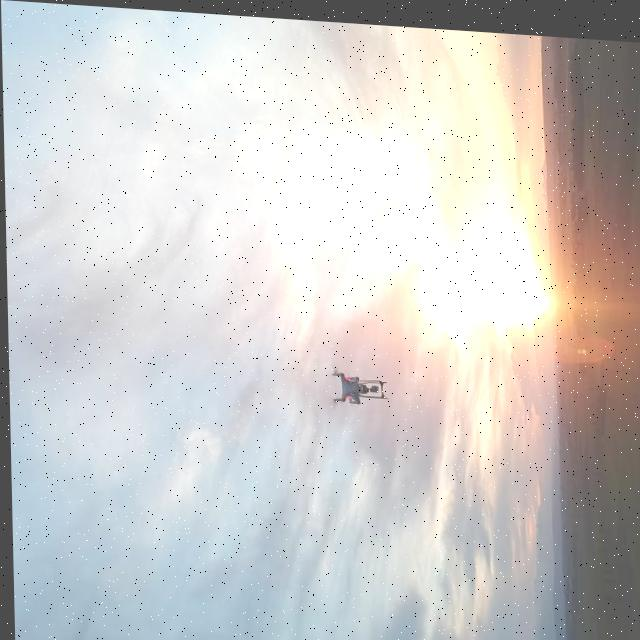drone: (304, 362, 397, 410)
